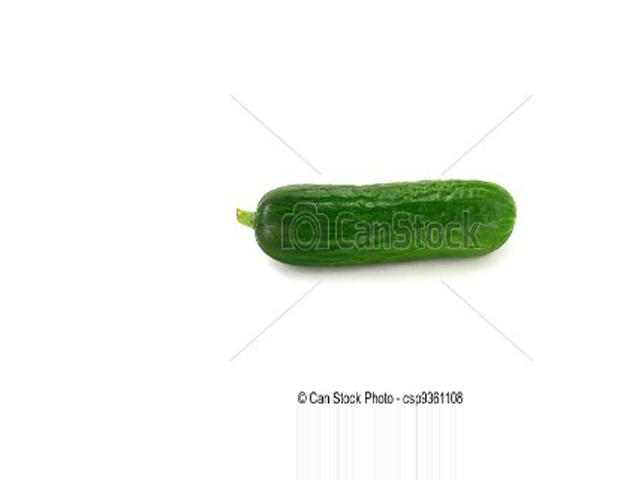cucumber: (235, 180, 518, 267)
